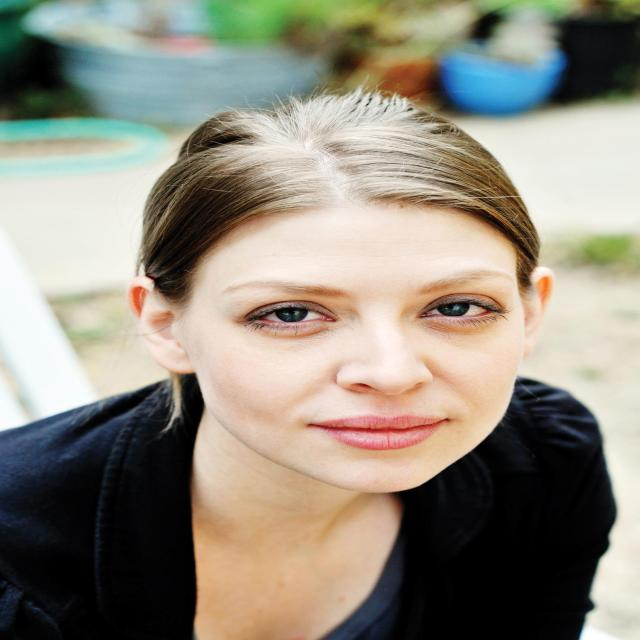no-earmuff: (113, 271, 218, 382), (510, 263, 572, 373)
